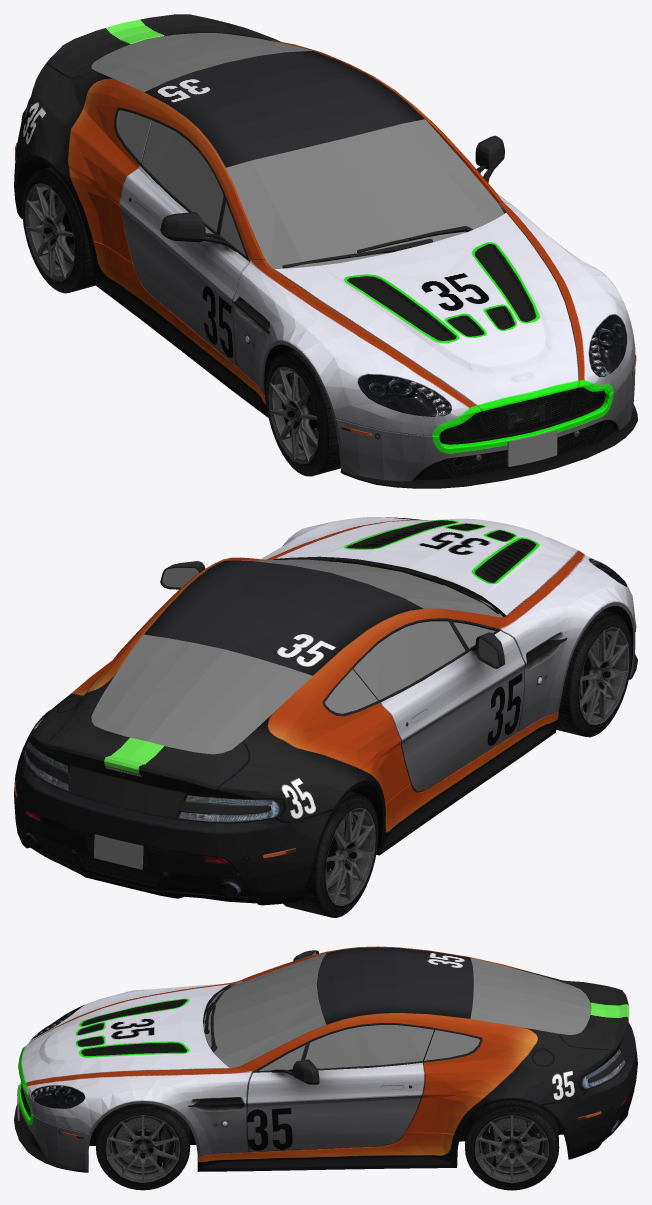
File: car.fbx
3 renders of one model, top to bottom at view 1: azimuth 30°, elevation 25°; view 2: azimuth 150°, elevation 25°; view 3: azimuth 270°, elevation 25°, orthographic. The views are drawn at different scales.
Visible parts, largest first — view 1: model_13, Object005, model_14, Object003, Object004, model_15, model_12; view 2: model_13, Object005, model_14, Object003, Object004, model_12, model_15, model_5; view 3: model_13, Object005, model_14, Object001, Object002, model_12.
Part boxes in pixels (x1,y1,x2,y2): model_13: (14, 14, 635, 481); Object005: (91, 33, 504, 269); model_14: (15, 97, 637, 488); Object003: (265, 350, 340, 476); Object004: (22, 167, 95, 293); model_15: (507, 429, 557, 466); model_12: (15, 131, 613, 422); model_13: (14, 517, 635, 905); Object005: (91, 559, 503, 754); model_14: (15, 517, 637, 896); Object003: (556, 610, 631, 737); Object004: (283, 791, 378, 917); model_12: (25, 525, 633, 896); model_15: (94, 834, 143, 869); model_5: (162, 568, 499, 666); model_13: (18, 946, 637, 1171); Object005: (203, 953, 590, 1070); model_14: (14, 950, 636, 1172); Object001: (465, 1100, 559, 1190); Object002: (96, 1103, 190, 1190); model_12: (19, 1005, 619, 1169).
Bounding box in the file's own units: 206 × 127 × 440.
7 materials, 4 textured.
